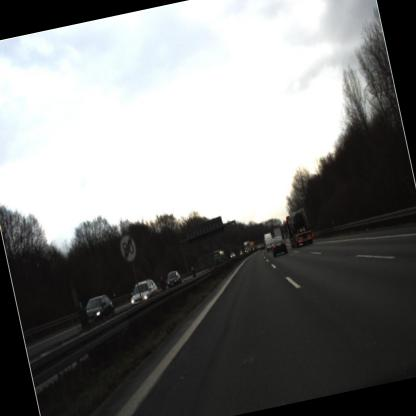other: (116, 229, 142, 265)
